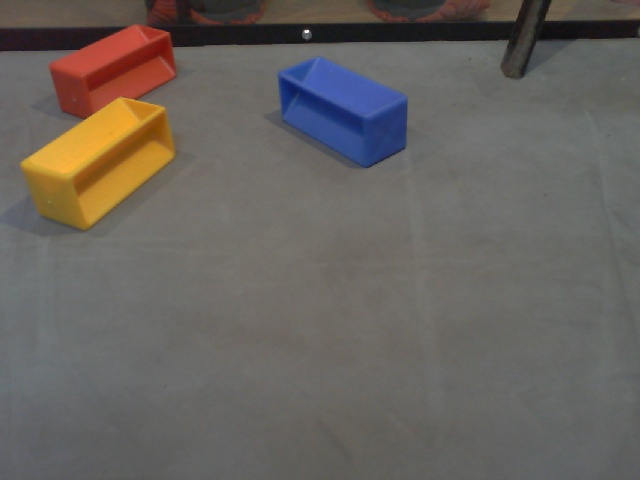BlueSample: (272, 50, 410, 173)
RedSample: (47, 22, 181, 117)
YellowSample: (19, 97, 178, 233)
